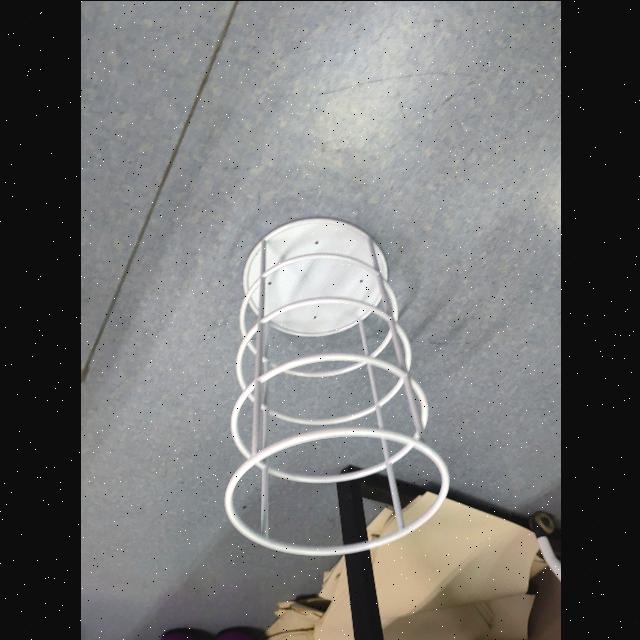S: (215, 210, 452, 558)
